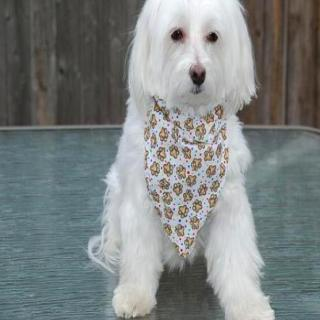dog: (122, 0, 266, 137)
nose: (183, 60, 212, 89)
